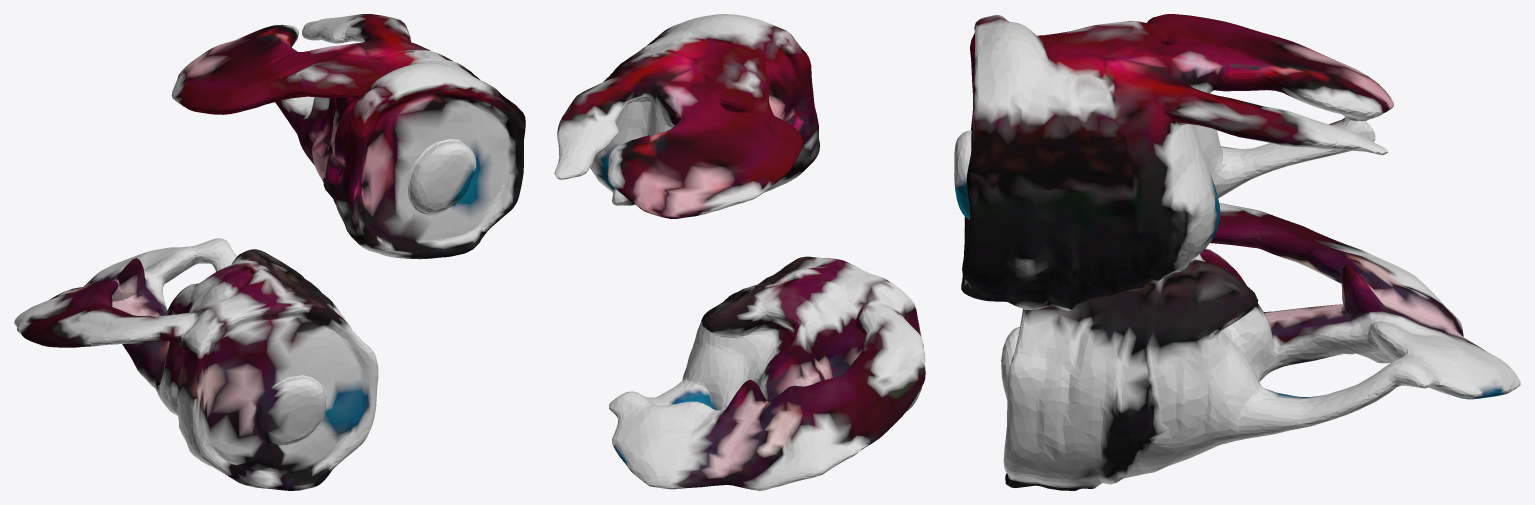
The model's file is eyes.glb.
The picture shows the model from 3 angles, left to right: view 1: azimuth 30°, elevation 25°; view 2: azimuth 150°, elevation 25°; view 3: azimuth 270°, elevation 25°; orthographic projection. The views are drawn at different scales.
Visible parts, largest first — view 1: geometry_0; view 2: geometry_0; view 3: geometry_0.
Part boxes in pixels (x1=…): geometry_0: x1=14, y1=14, x2=525, y2=490; geometry_0: x1=554, y1=14, x2=925, y2=490; geometry_0: x1=954, y1=14, x2=1520, y2=490.
Bounding box in the file's own units: 0.5913 × 0.5938 × 0.5899.
